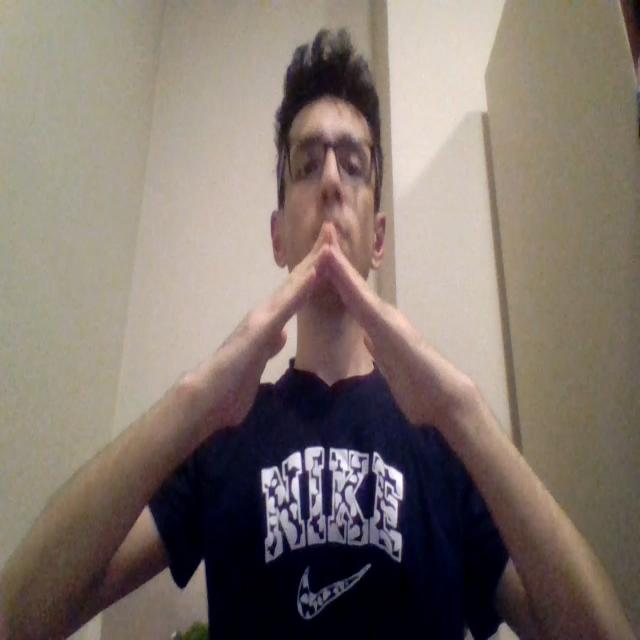house: (208, 232, 454, 426)
